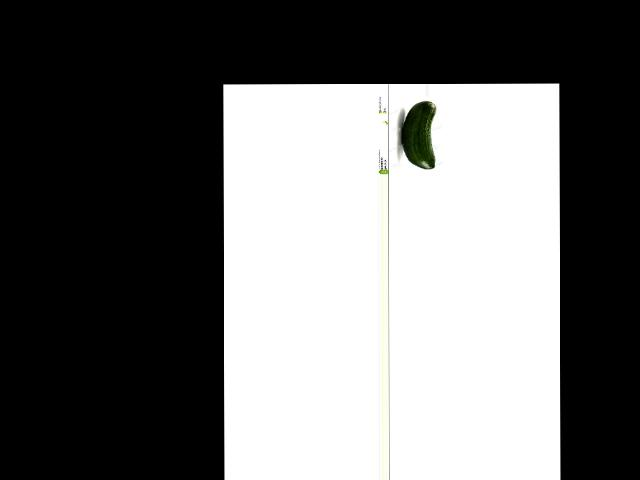cucumber: (401, 101, 435, 168)
